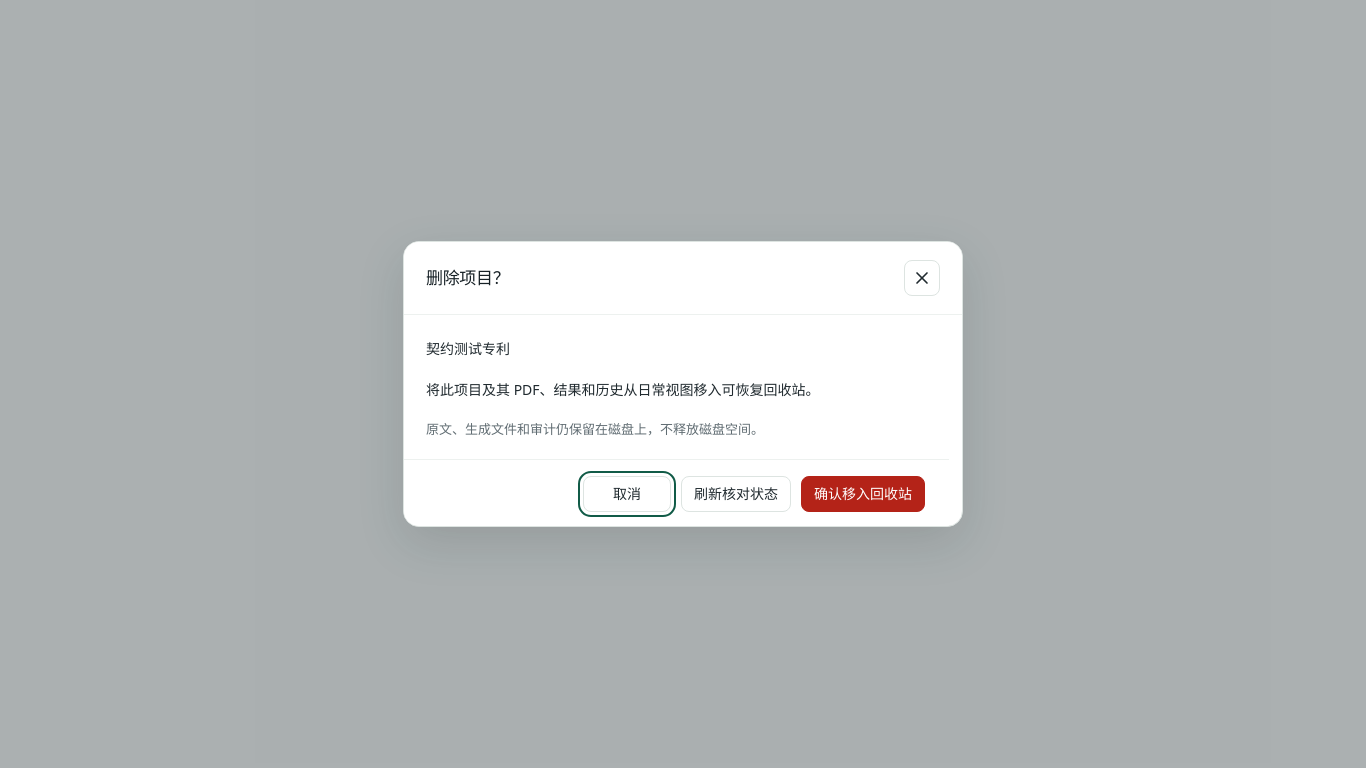
Test: explicit recoverable deletion and authoritative preview › reconciles an already committed ambiguous deletion without replay or automatic restore
Click the button "确认移入回收站" at [863, 494], box [801, 476, 925, 512]
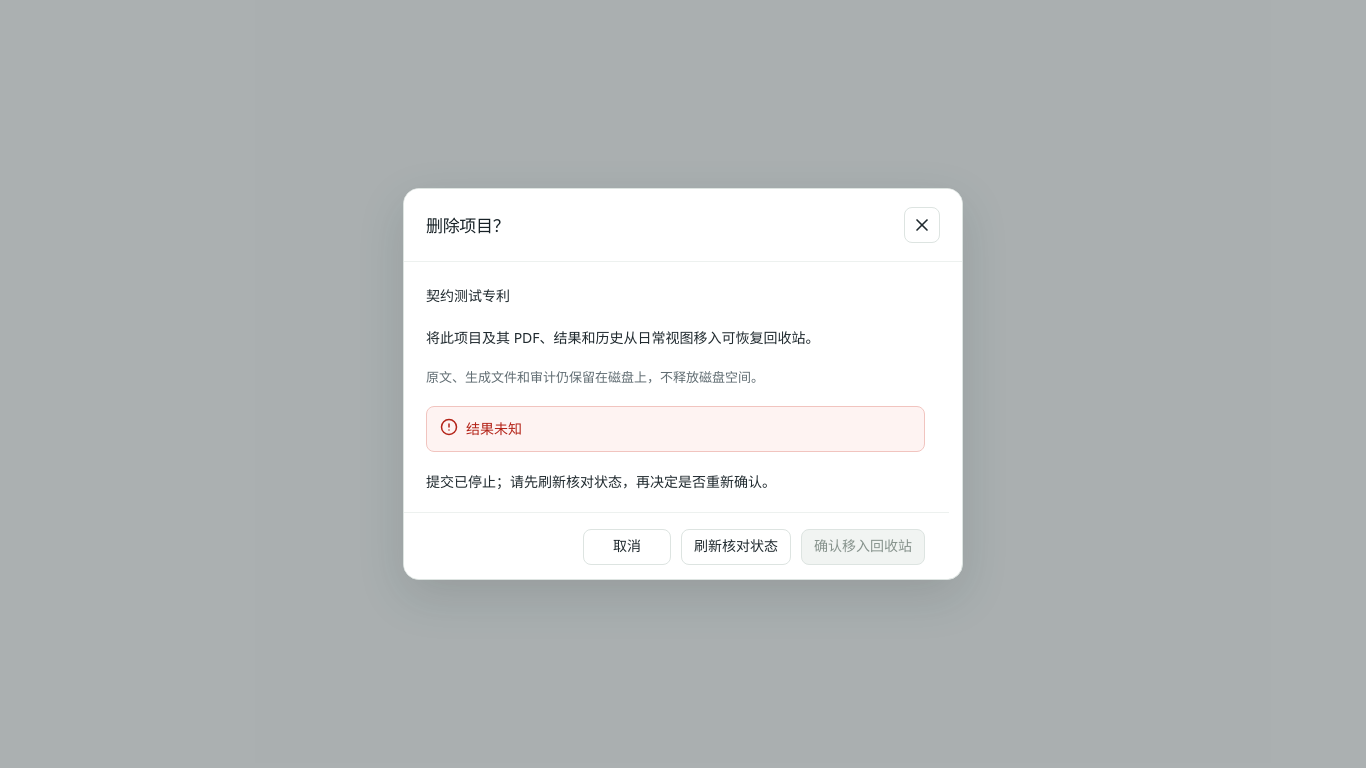
Expected: the message "结果未知" is shown, [426, 406, 925, 452]
Click the button "刷新核对状态" at [736, 546], box [681, 528, 791, 564]
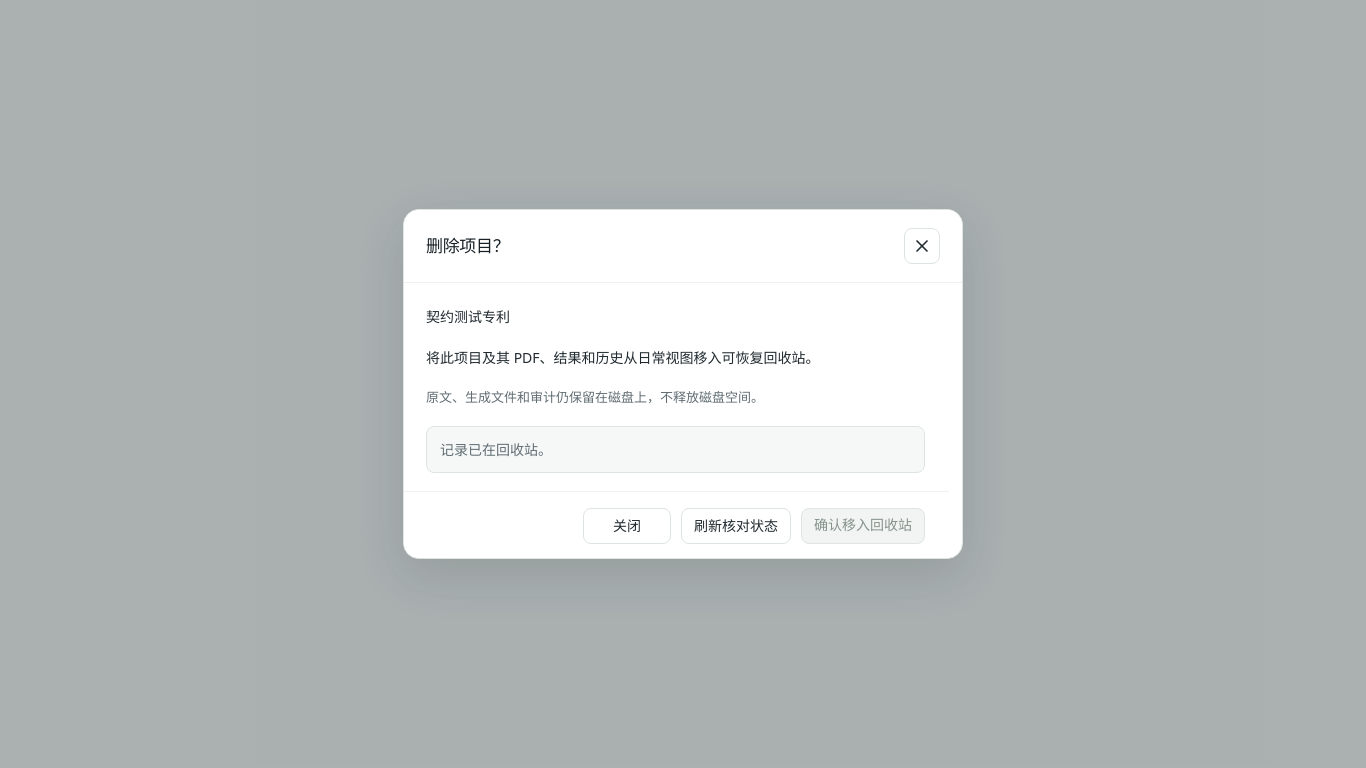
Expected: the button "确认移入回收站" is disabled, [801, 508, 925, 544]
Expected: the text "记录已在回收站。" is shown, [426, 426, 925, 473]
